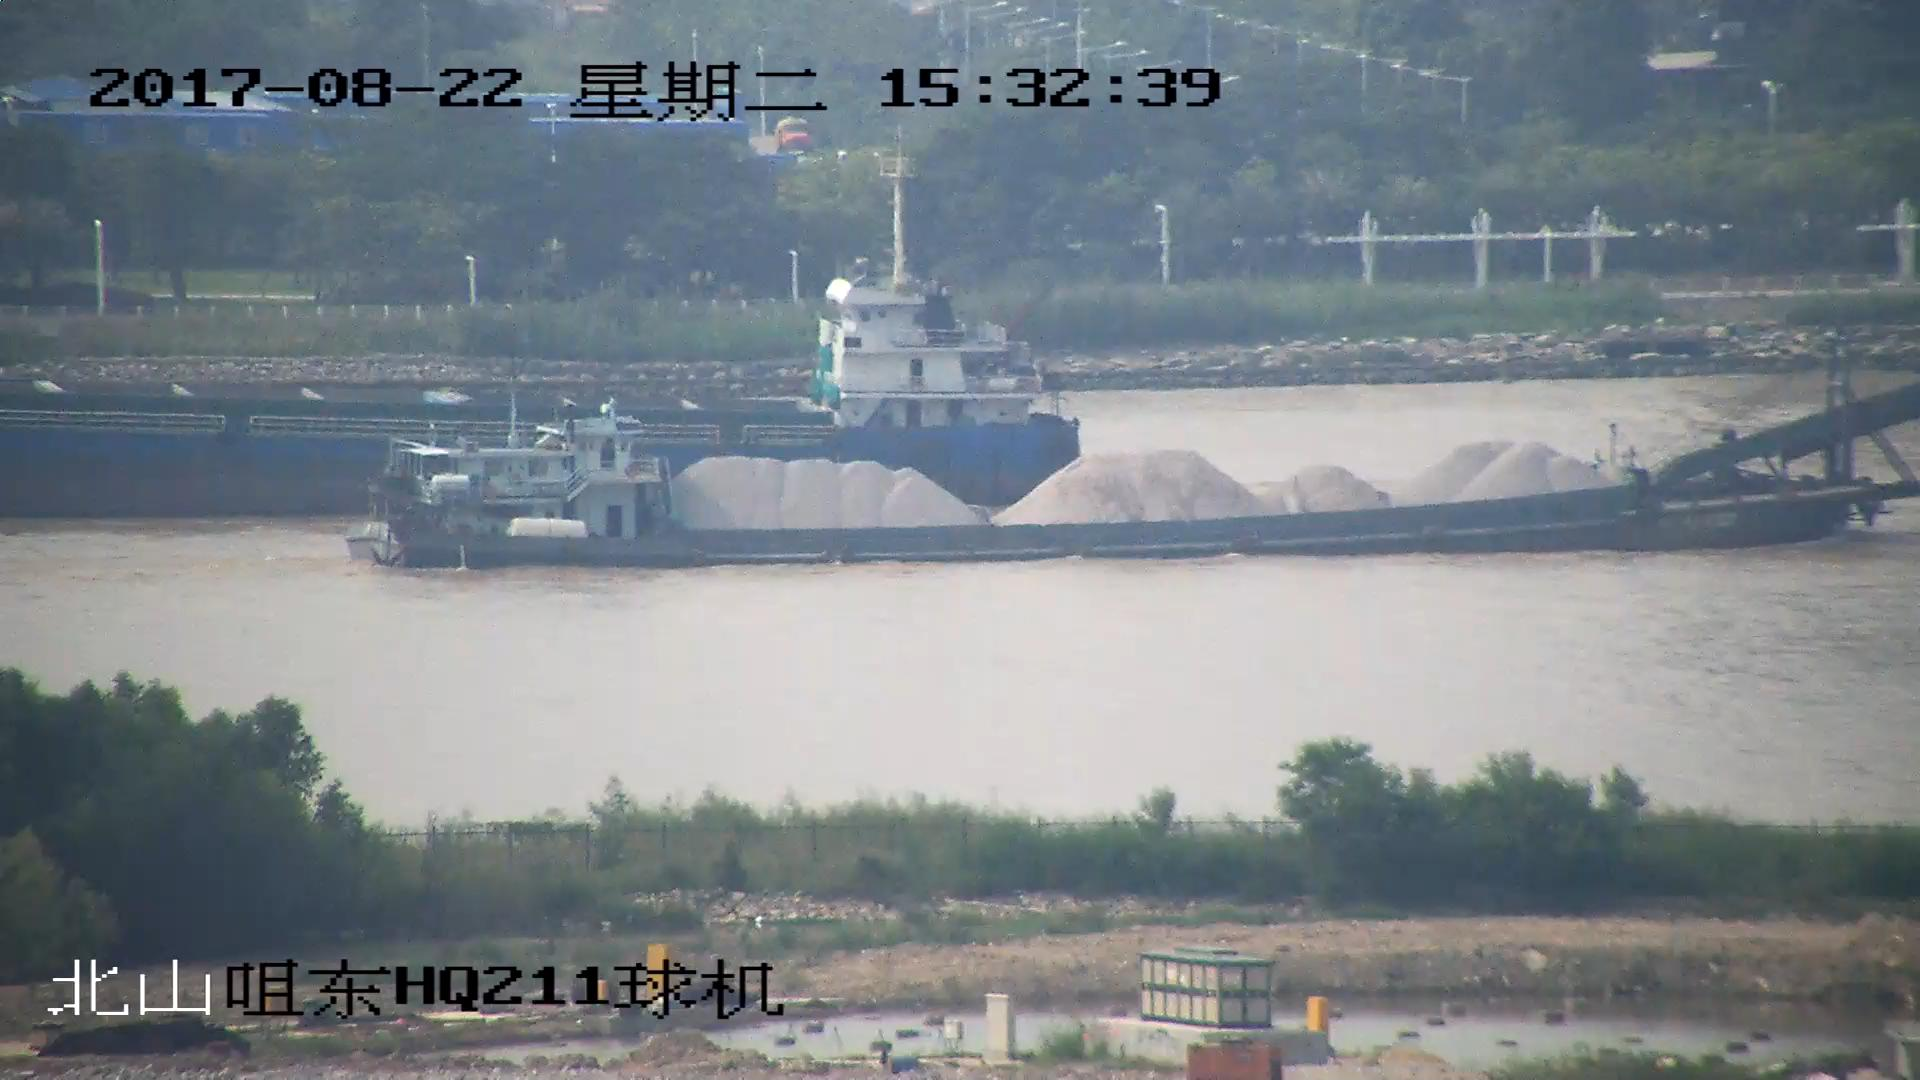general cargo ship: (1, 153, 1095, 512)
ore carrier: (359, 352, 1920, 571)
